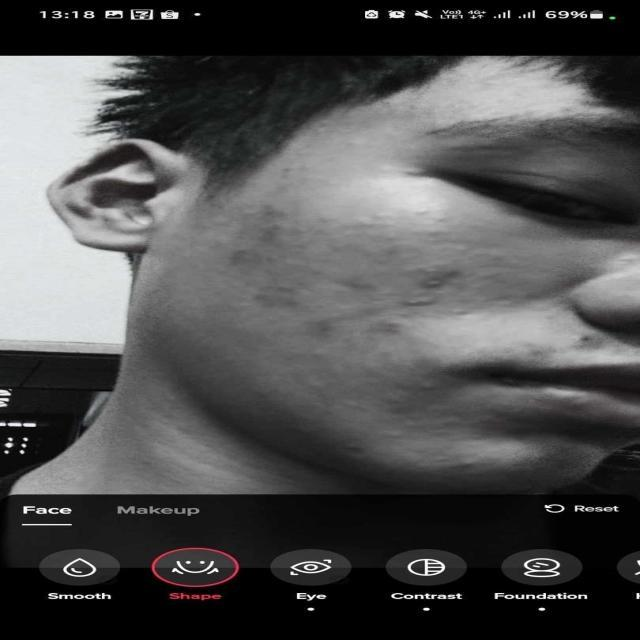Acne: (231, 184, 438, 398)
